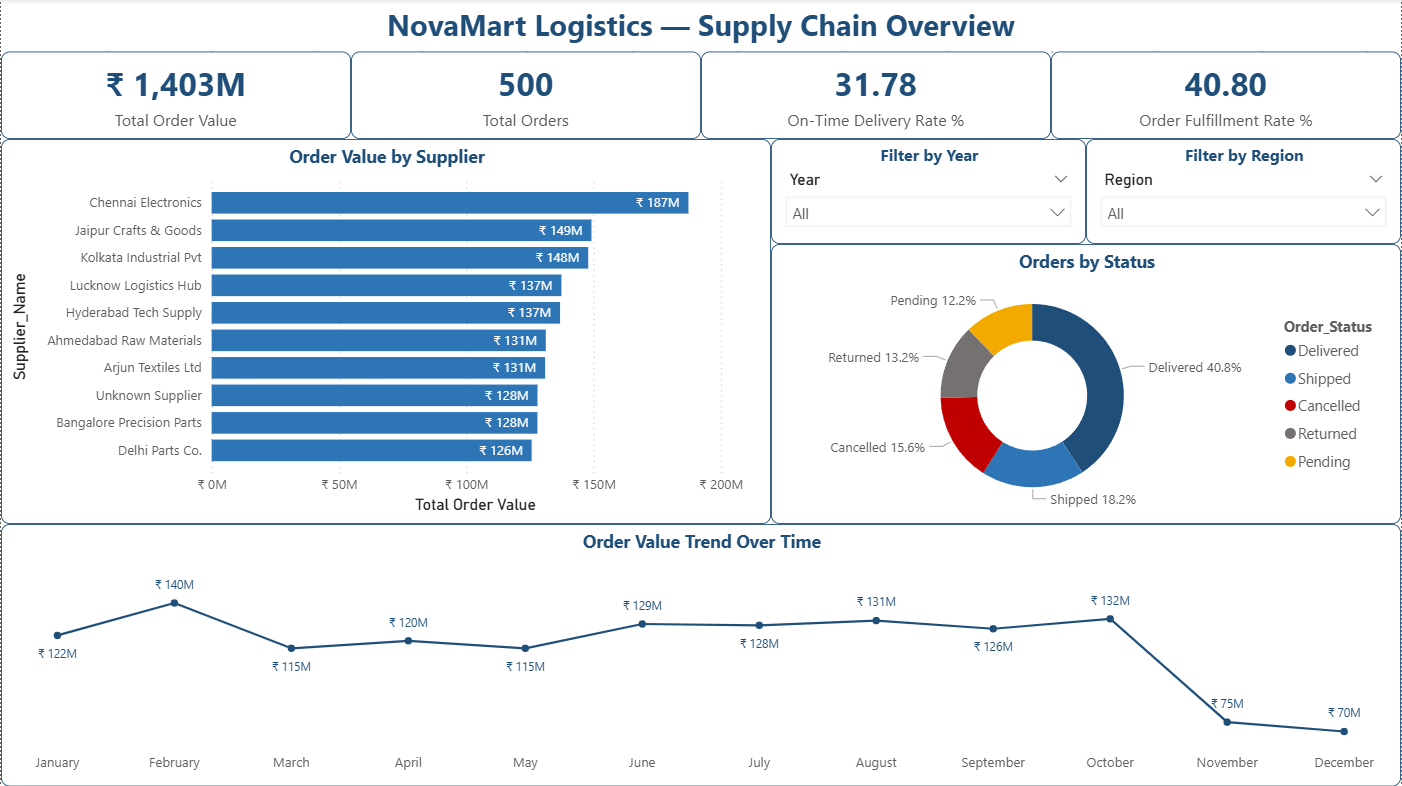

The dashboard page shown, as its layout file describes it:
{"tool":"powerbi","page":{"name":"Executive Overview","canvas":[1280,720],"ordinal":0},"visuals":[{"type":"textbox","box":[0,0,1280,48],"z":0},{"type":"card","fields":{"Values":["_Measures.Total Order Value"]},"box":[0,48,320,80],"z":1000},{"type":"card","fields":{"Values":["_Measures.Total Orders"]},"box":[320,48,320,80],"z":2000},{"type":"card","fields":{"Values":["_Measures.On-Time Delivery Rate %"]},"box":[640,48,320,80],"z":3000},{"type":"card","fields":{"Values":["_Measures.Order Fulfillment Rate %"]},"box":[960,48,320,80],"z":4000},{"type":"clusteredBarChart","title":"Order Value by Supplier","fields":{"Category":["Suppliers.Supplier_Name"],"Y":["_Measures.Total Order Value"]},"box":[0,128,704,352],"z":5000},{"type":"donutChart","title":"Orders by Status","fields":{"Category":["Orders.Order_Status"],"Y":["_Measures.Total Orders"]},"box":[704,224,576,256],"z":6000},{"type":"lineChart","title":"Order Value Trend Over Time","fields":{"Category":["Orders.Order_Date.Variation.Date Hierarchy.Month"],"Y":["_Measures.Total Order Value"]},"box":[0,480,1280,240],"z":7000},{"type":"slicer","title":"Filter by Year","fields":{"Values":["Orders.Order_Date.Variation.Date Hierarchy.Year"]},"box":[704,128,288,96],"z":8000},{"type":"slicer","title":"Filter by Region","fields":{"Values":["Suppliers.Region"]},"box":[992,128,288,96],"z":9000}]}

Visuals, with their boxes in screenshot pixels (x1, y1, x2, y2), scaled from the page's 1280x720 canvas onto the 1402x786 screenshot:
textbox: (0, 0, 1401, 52)
card - _Measures.Total Order Value: (0, 52, 350, 140)
card - _Measures.Total Orders: (350, 52, 701, 140)
card - _Measures.On-Time Delivery Rate %: (701, 52, 1052, 140)
card - _Measures.Order Fulfillment Rate %: (1052, 52, 1401, 140)
"Order Value by Supplier" clusteredBarChart: (0, 140, 771, 524)
"Orders by Status" donutChart: (771, 245, 1401, 524)
"Order Value Trend Over Time" lineChart: (0, 524, 1401, 785)
"Filter by Year" slicer: (771, 140, 1087, 245)
"Filter by Region" slicer: (1087, 140, 1401, 245)
